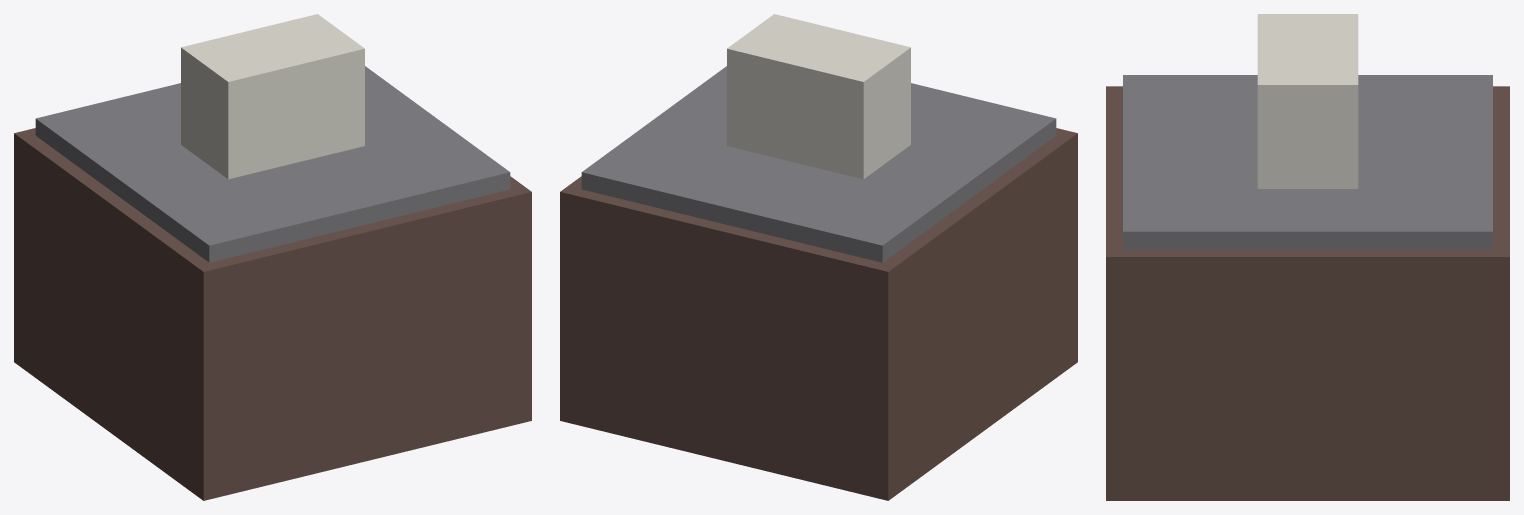
The model's file is PRP_P0_Tissues_A.obj.
3 renders of one model, left to right at view 1: azimuth 30°, elevation 25°; view 2: azimuth 150°, elevation 25°; view 3: azimuth 270°, elevation 25°, orthographic. The views are drawn at different scales.
Visible parts, largest first — view 1: carton, top_face, tissue; view 2: carton, top_face, tissue; view 3: carton, top_face, tissue.
Boxes of the visible parts, left/top/right/bottom form: carton: left=14, top=128, right=531, bottom=500; top_face: left=35, top=66, right=510, bottom=262; tissue: left=181, top=14, right=364, bottom=179; carton: left=560, top=128, right=1077, bottom=500; top_face: left=581, top=66, right=1056, bottom=262; tissue: left=727, top=14, right=910, bottom=179; carton: left=1106, top=86, right=1509, bottom=500; top_face: left=1123, top=75, right=1492, bottom=249; tissue: left=1257, top=14, right=1358, bottom=188.
Size of the model in its own units: 0.12 by 0.12 by 0.12.
